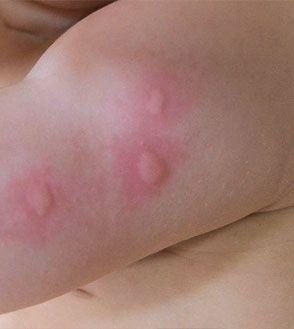Reupload: (117, 140, 172, 195), (13, 169, 60, 222), (146, 90, 166, 118)
